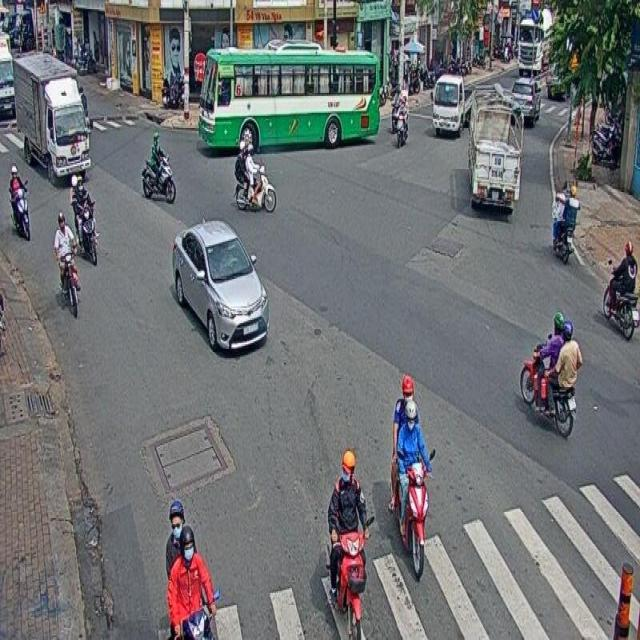bus: (198, 40, 378, 150)
car: (172, 218, 269, 355)
motorcycle: (390, 373, 436, 579), (326, 449, 375, 640), (518, 311, 582, 437), (601, 239, 640, 338), (234, 139, 278, 215), (54, 210, 80, 318), (70, 174, 98, 265), (142, 130, 176, 202), (553, 183, 578, 265), (8, 166, 30, 242), (395, 96, 408, 148)
truck: (13, 53, 91, 177)
